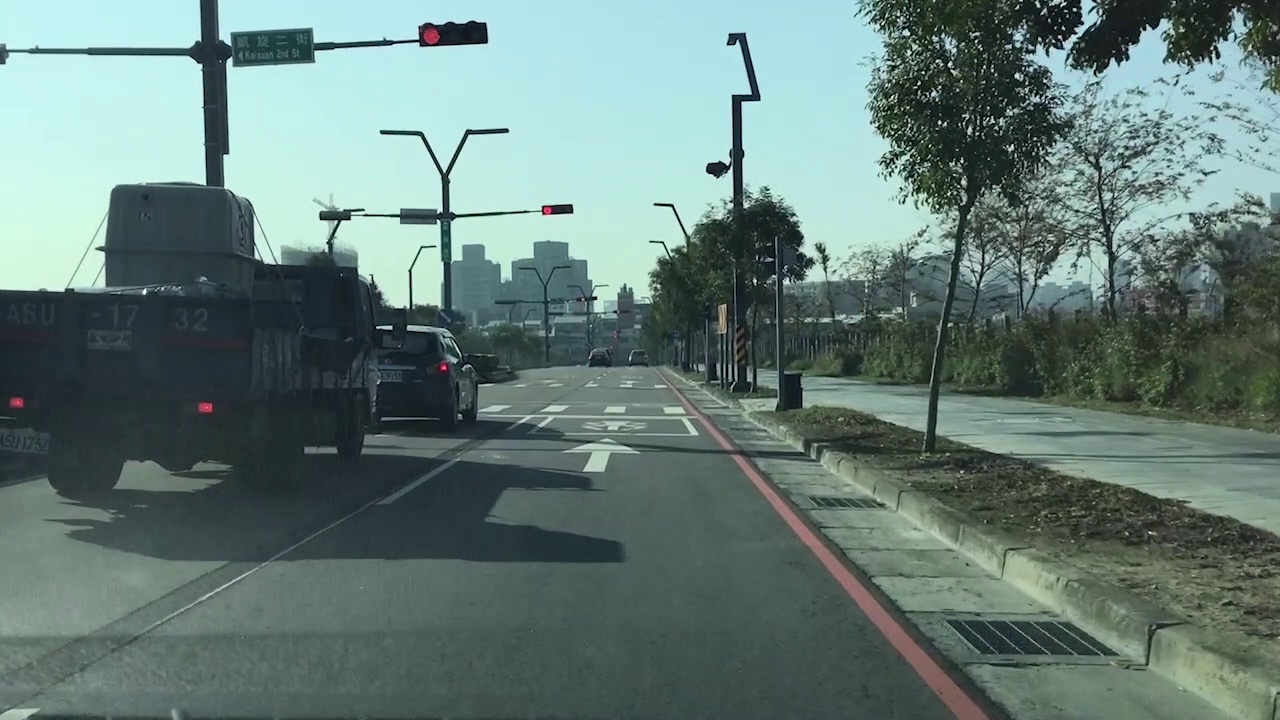Pedestrian_Crossing: (486, 390, 695, 410)
